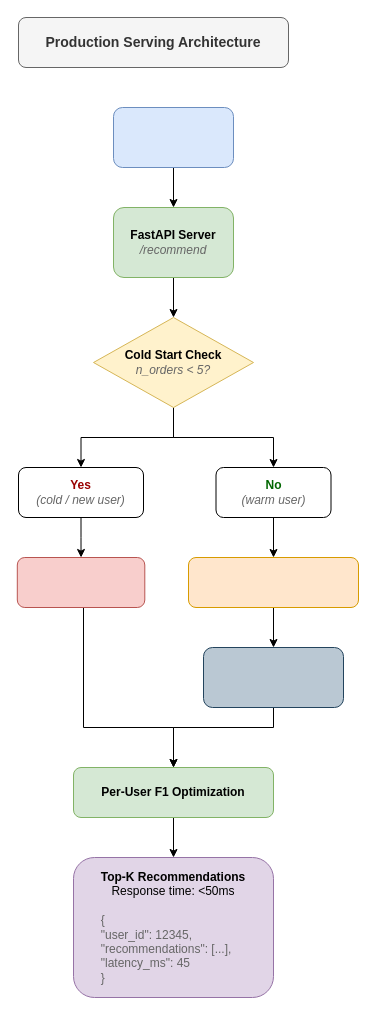
The diagram is 377 pixels wide and 1015 high, and some of its shapes have lost their labels. Each missing label, with the box of its shape:
LightGBM Inference (~30ms): (202, 646, 344, 708)
Load Features from Cache: (188, 556, 358, 608)
Popularity Fallback: (16, 556, 145, 608)
User Request user_id: 12345: (112, 106, 234, 168)
